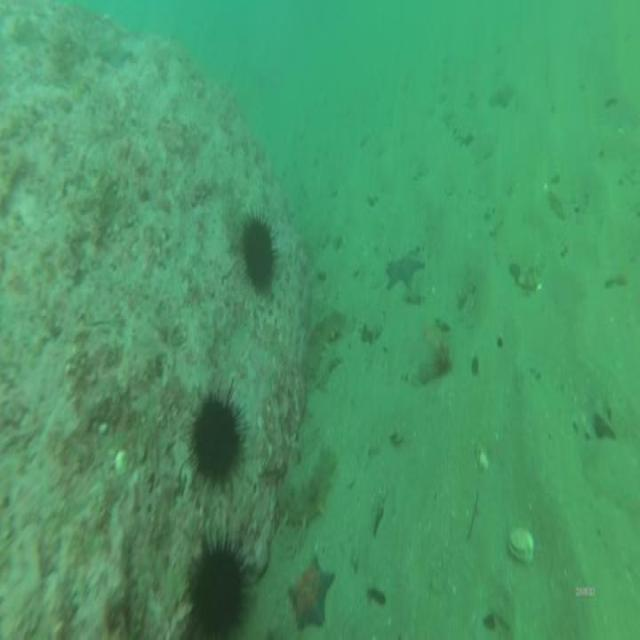echinus: (185, 528, 251, 640), (188, 385, 245, 490), (239, 212, 277, 294)
holothurian: (274, 440, 336, 532), (302, 300, 348, 384), (417, 335, 451, 386)
scallop: (507, 518, 535, 566)
starfish: (286, 552, 334, 630), (382, 238, 428, 296)
